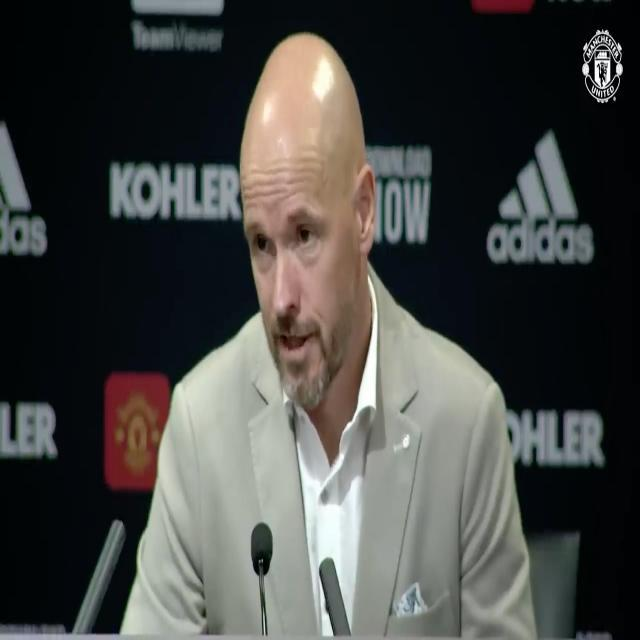Adidas: (487, 128, 595, 266)
Kohler: (110, 160, 242, 220)
TeamViewer: (131, 0, 223, 51)
